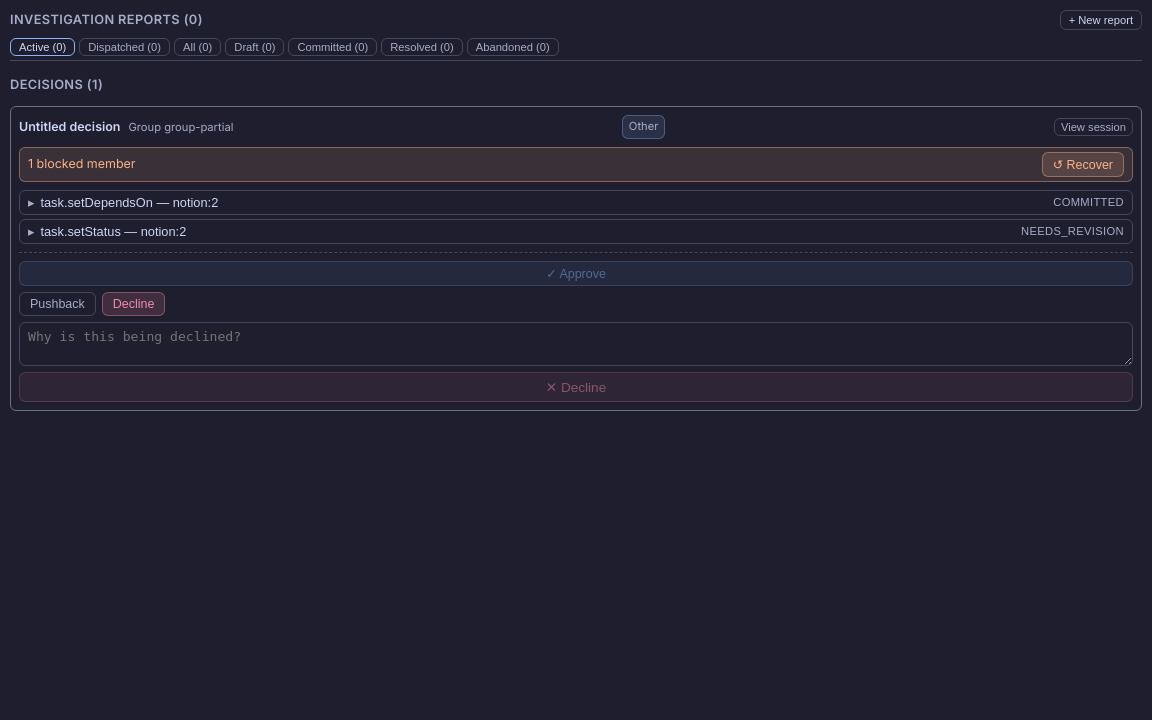
MilestoneDecisionInbox › renders a partially-applied group as such — an already-committed sibling alongside the one member still blocked
Check: the element with test id "milestone-decision-inbox" is shown, box [0, 0, 1151, 421]
Click the button with test id "group-member-toggle-blocked-member" at (113, 231), box [19, 219, 1133, 244]
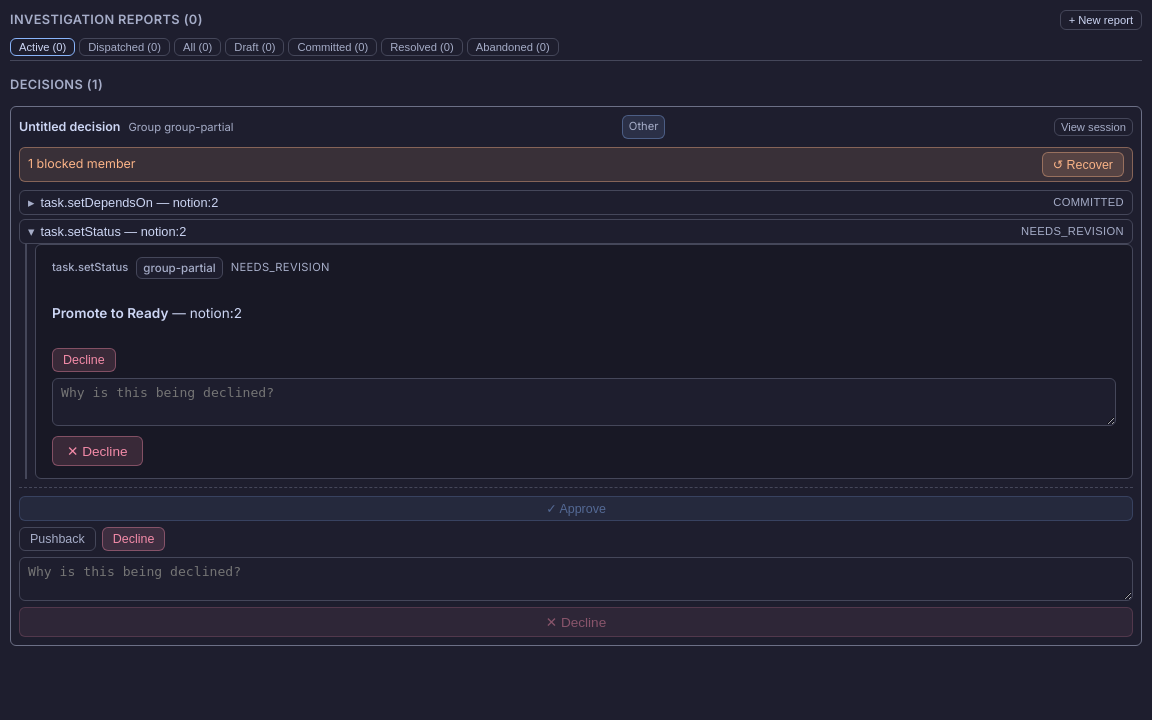
Check: the button "✕ Decline" below "Promote to Ready" is shown, box [52, 436, 142, 466]
